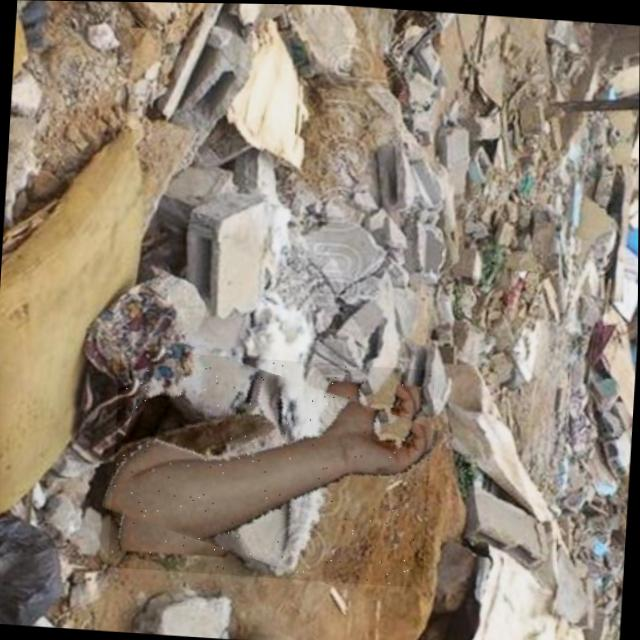Person in Rubble: (108, 349, 435, 587)
